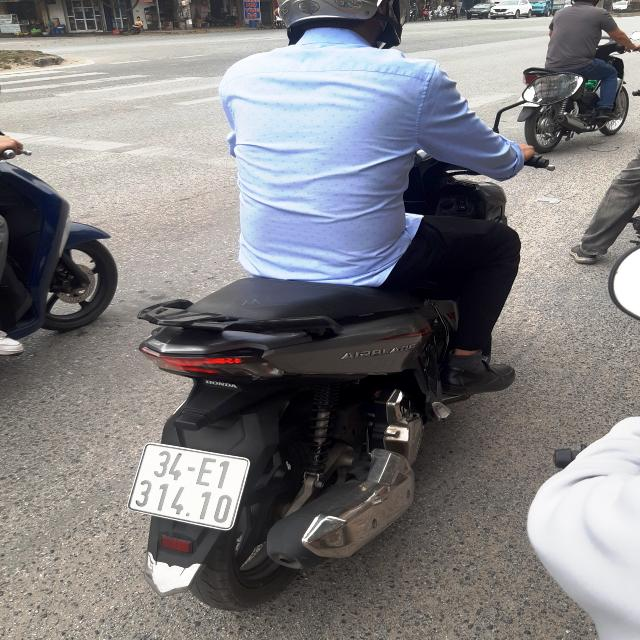license_plate: (112, 439, 259, 539)
